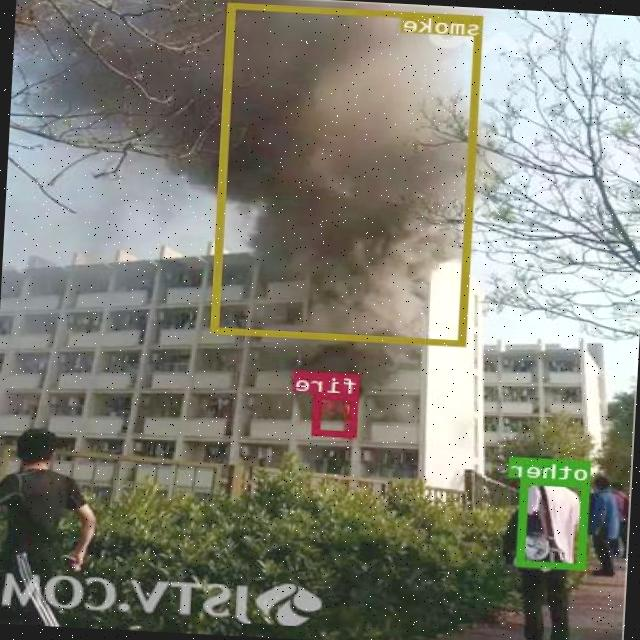fire: (314, 392, 360, 437)
smoke: (212, 2, 484, 345)
